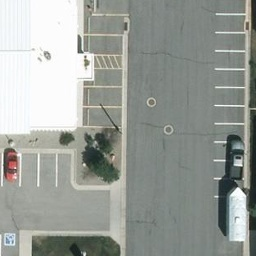car: (227, 142, 246, 181), (5, 151, 19, 182)
